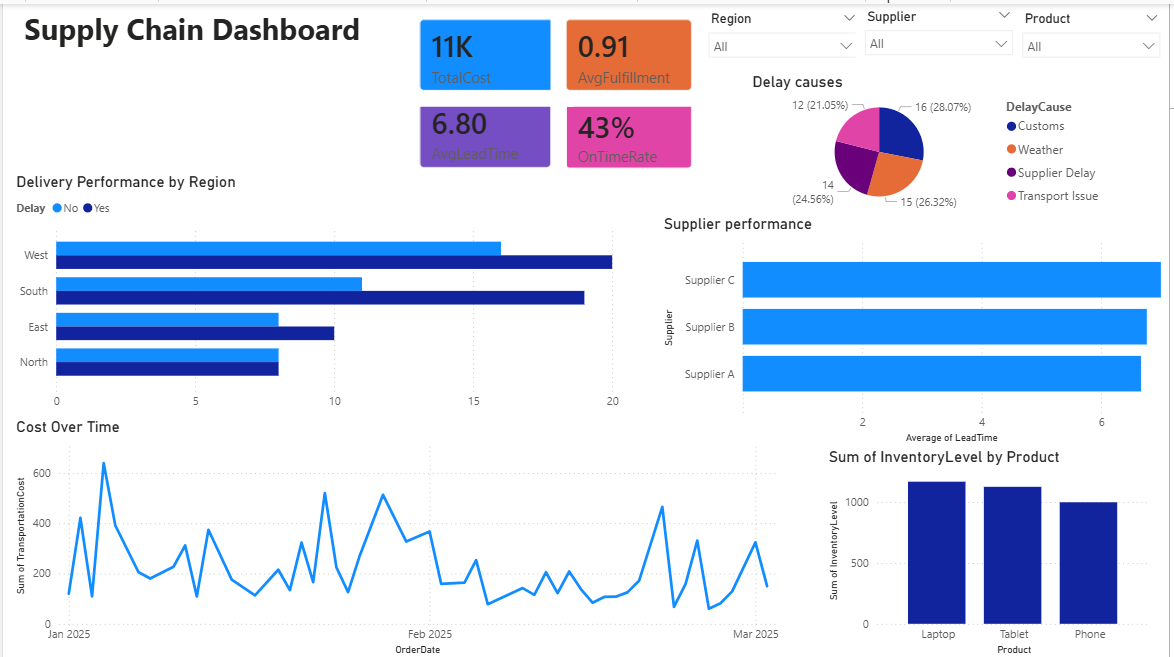

This screenshot's page, from the dashboard's own definition file:
{"tool":"powerbi","page":{"name":"Page 1","canvas":[1280,720],"ordinal":0},"visuals":[{"type":"cardVisual","fields":{"Data":["SupplyChainData.OnTimeRate"]},"box":[601,90.6,172.9,107],"z":0},{"type":"cardVisual","fields":{"Data":["SupplyChainData.AvgLeadTime"]},"box":[440.5,83.7,178.4,113.9],"z":1000},{"type":"cardVisual","fields":{"Data":["SupplyChainData.TotalCost"]},"box":[440.5,0,185.2,112.5],"z":2000},{"type":"cardVisual","fields":{"Data":["SupplyChainData.AvgFulfillment"]},"box":[601,0,172.9,112.5],"z":3000},{"type":"clusteredBarChart","title":"Delivery Performance by Region","fields":{"Category":["SupplyChainData.Region"],"Y":["CountNonNull(SupplyChainData.OrderID)"],"Series":["SupplyChainData.Delay"]},"box":[9.6,185.2,691.6,269],"z":4000},{"type":"pieChart","title":"Delay causes","fields":{"Y":["CountNonNull(SupplyChainData.OrderID)"],"Category":["SupplyChainData.DelayCause"]},"box":[817.8,75.5,399.3,155.1],"z":5000},{"type":"barChart","title":"Supplier performance","fields":{"Category":["SupplyChainData.Supplier"],"Y":["Avg(SupplyChainData.LeadTime)"]},"box":[720.4,230.5,559.9,256.6],"z":6000},{"type":"lineChart","title":"Cost Over Time","fields":{"Y":["Sum(SupplyChainData.TransportationCost)"],"Category":["SupplyChainData.OrderDate"]},"box":[9.6,454.2,860.4,266.2],"z":7000},{"type":"slicer","fields":{"Values":["SupplyChainData.Region"]},"box":[764.3,2.7,183.9,68.6],"z":8000},{"type":"slicer","fields":{"Values":["SupplyChainData.Supplier"]},"box":[935.9,0,182.5,65.9],"z":9000},{"type":"slicer","fields":{"Values":["SupplyChainData.Product"]},"box":[1108.8,2.7,171.5,65.9],"z":10000},{"type":"textbox","box":[9.6,0,430.9,56.3],"z":11000},{"type":"columnChart","fields":{"Category":["SupplyChainData.Product"],"Y":["Sum(SupplyChainData.InventoryLevel)"]},"box":[901.5,487.1,363.6,233.3],"z":11001}]}

Visuals, with their boxes in screenshot pixels (x1, y1, x2, y2), scaled from the page's 1280x720 canvas onto the 1174x657 screenshot:
cardVisual - SupplyChainData.OnTimeRate: [551,83,710,180]
cardVisual - SupplyChainData.AvgLeadTime: [404,76,568,180]
cardVisual - SupplyChainData.TotalCost: [404,0,574,103]
cardVisual - SupplyChainData.AvgFulfillment: [551,0,710,103]
"Delivery Performance by Region" clusteredBarChart: [9,169,643,414]
"Delay causes" pieChart: [750,69,1116,210]
"Supplier performance" barChart: [661,210,1173,444]
"Cost Over Time" lineChart: [9,414,798,656]
slicer - SupplyChainData.Region: [701,2,870,65]
slicer - SupplyChainData.Supplier: [858,0,1026,60]
slicer - SupplyChainData.Product: [1017,2,1173,63]
textbox: [9,0,404,51]
columnChart - SupplyChainData.Product x Sum(SupplyChainData.InventoryLevel): [827,444,1160,656]
